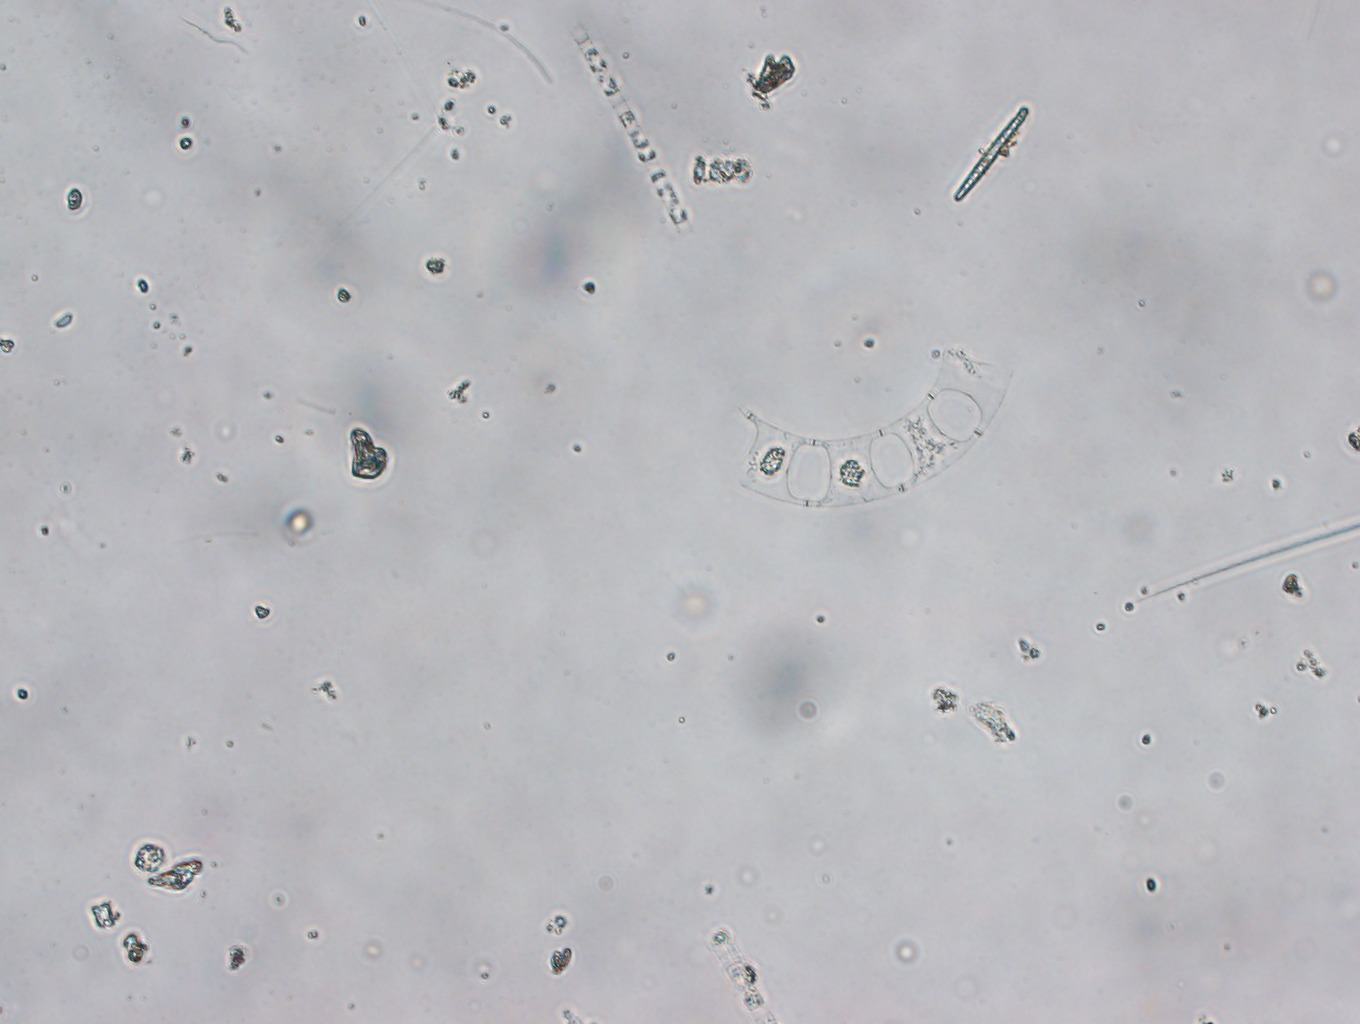eucampia: (738, 349, 1012, 511)
skeletonema: (570, 23, 695, 239)
